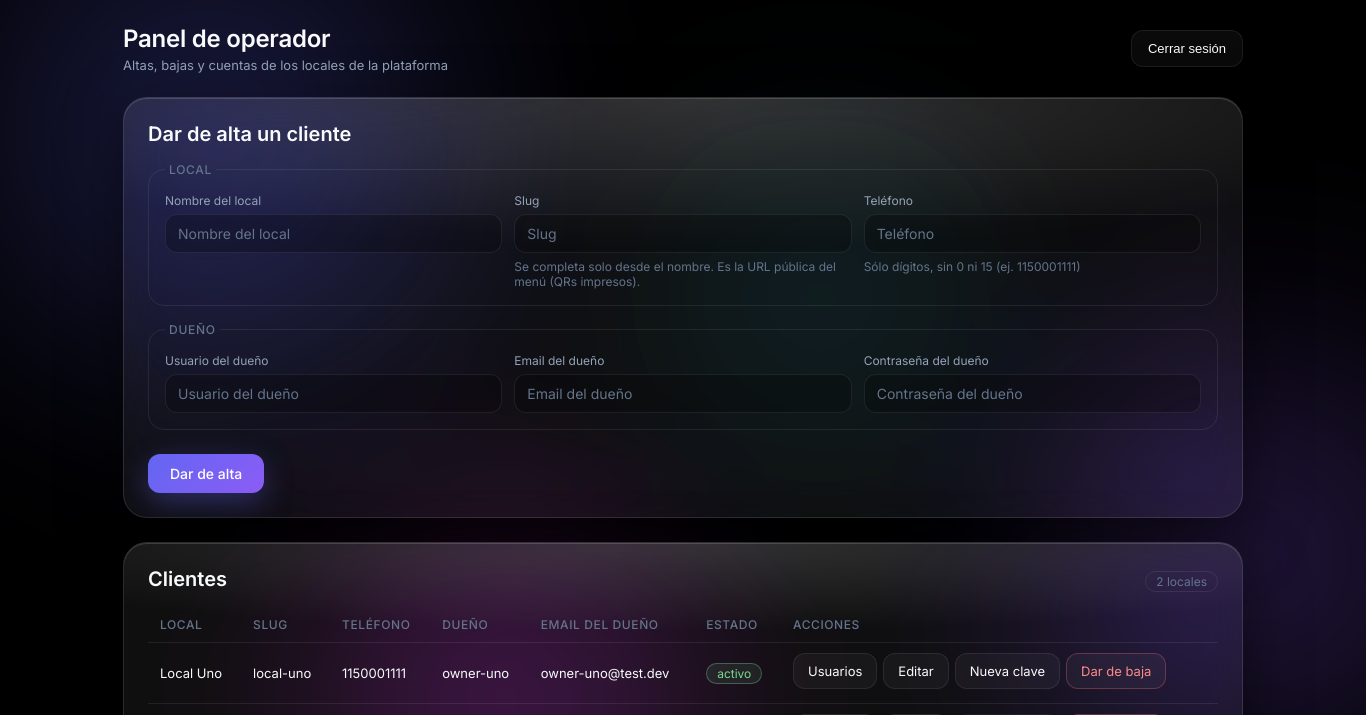
Test: alta form UX: slug automático y validación inline › valida inline y NO envía el POST cuando un campo es inválido
Step 1. Type "Local Valido" into the field with placeholder "Nombre del local" → coordinates (334, 234), box [165,214,502,253]
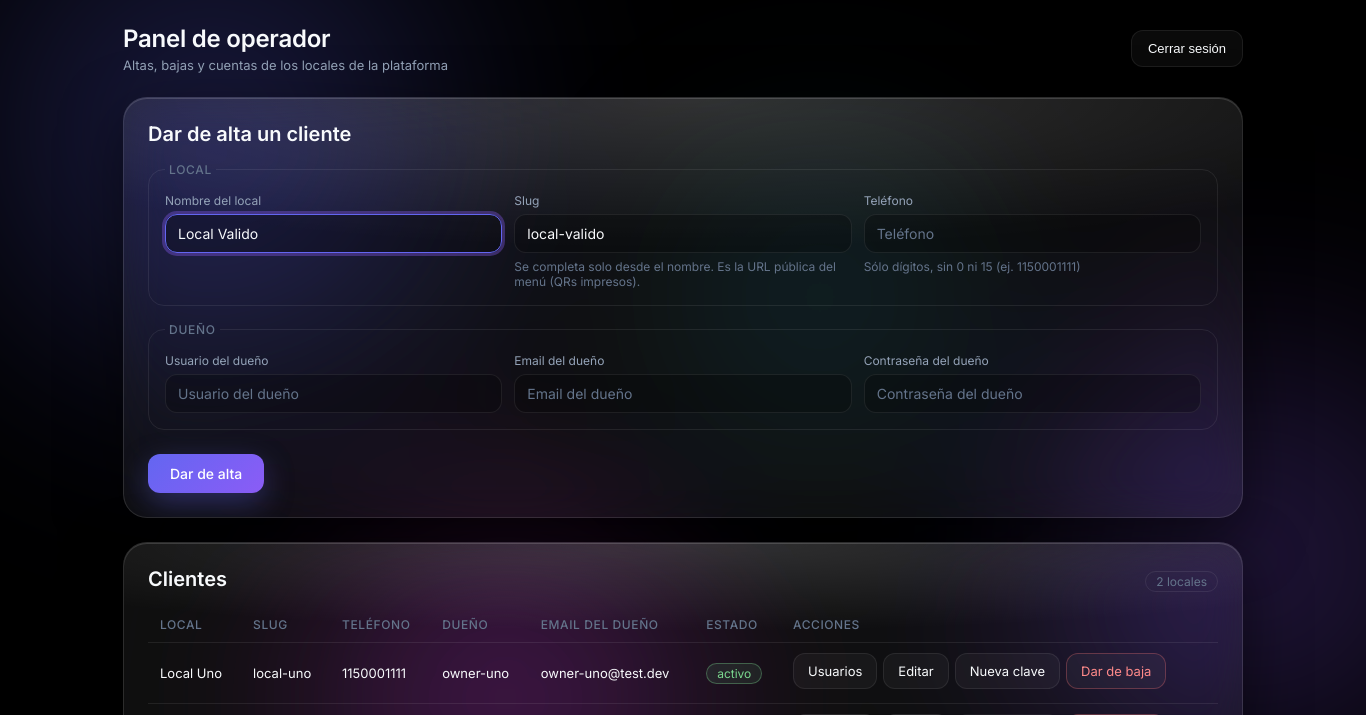
Step 2. Type "owner-v" into the field with placeholder "Usuario del dueño" → coordinates (334, 394), box [165,374,502,413]
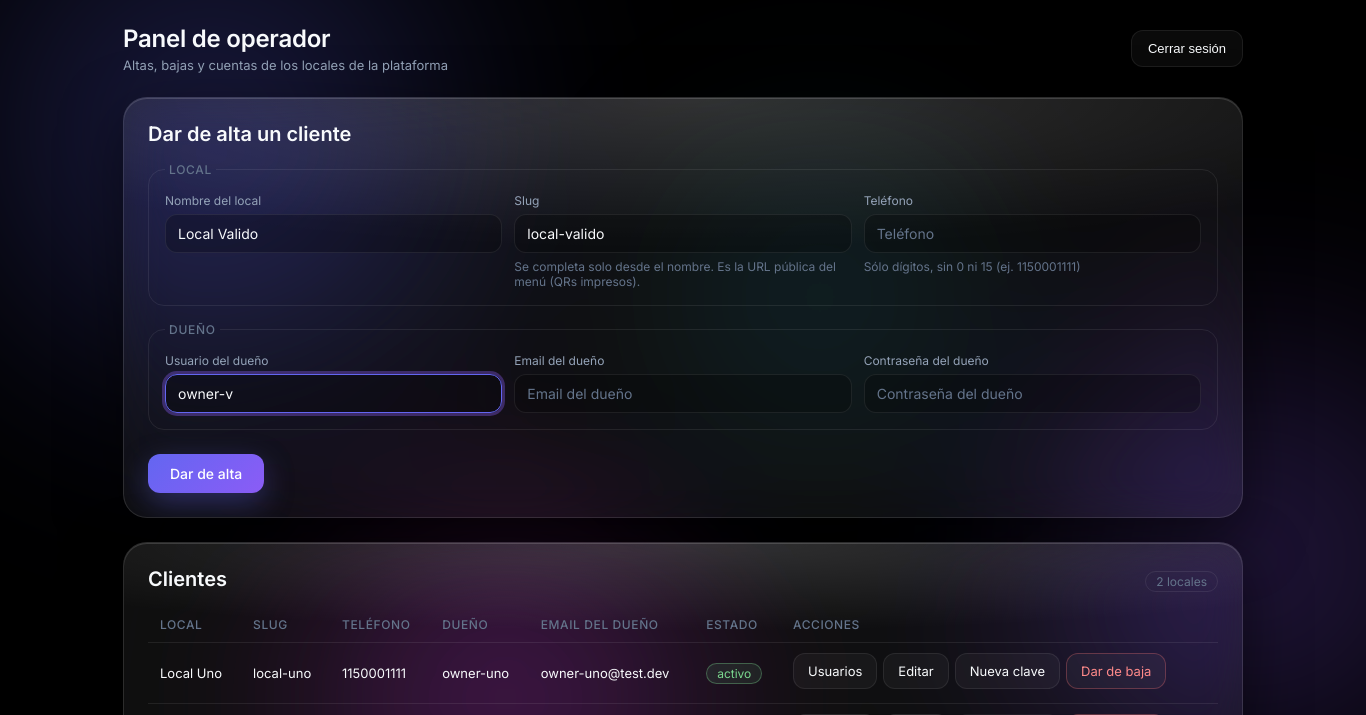
Step 3. Type "owner-v@test.dev" into the field with placeholder "Email del dueño" → coordinates (683, 394), box [514,374,852,413]
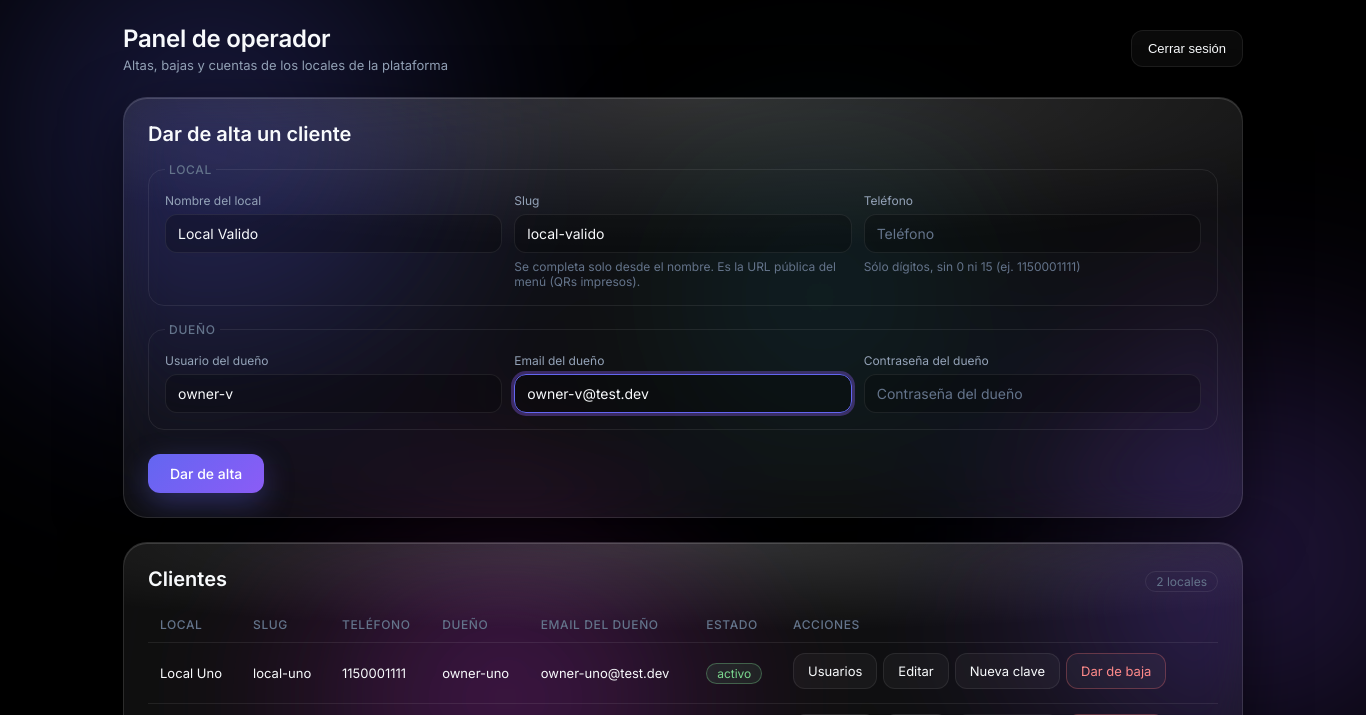
Contraseña corta: el formulario debe frenarla ANTES de la red.
Step 4. Type "corta" into the password field with placeholder "Contraseña del dueño" → coordinates (1032, 394), box [864,374,1201,413]
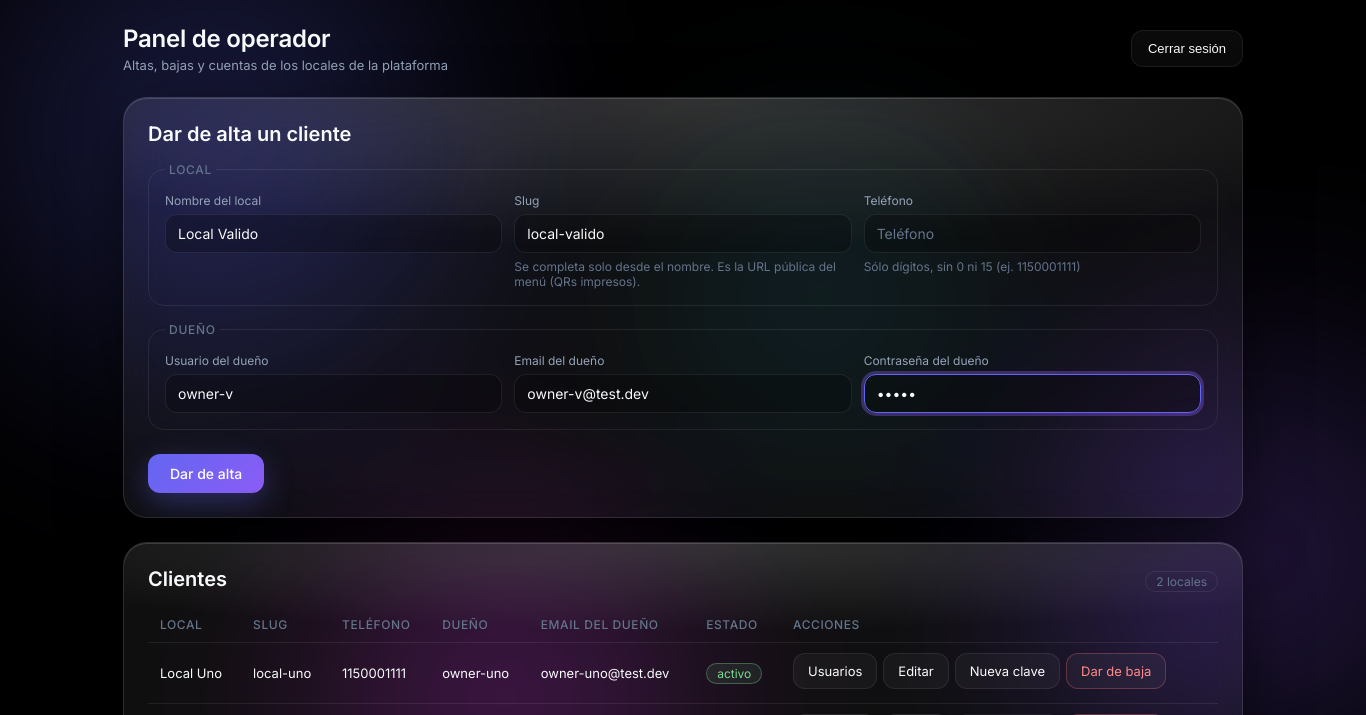
Step 5. Click the button "Dar de alta" → coordinates (206, 474), box [148,454,264,493]
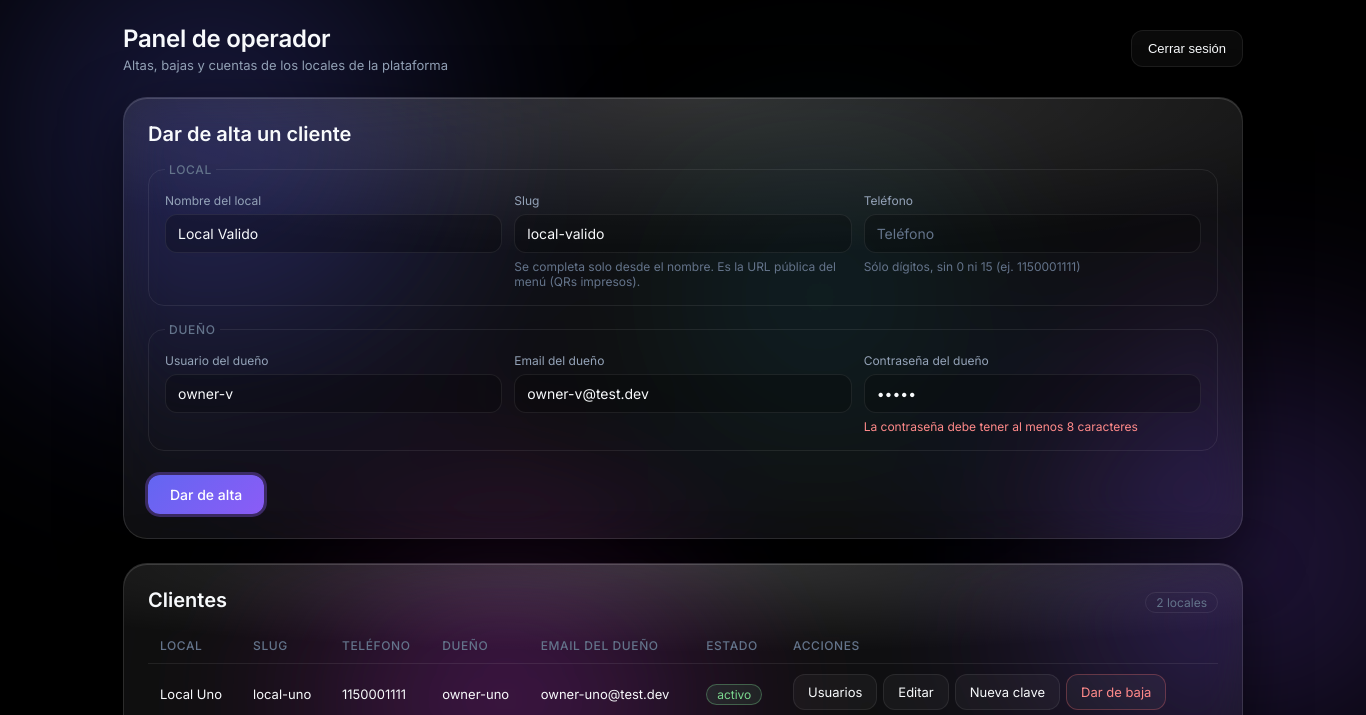
Expected: the text "La contraseña debe tener al menos 8 caracteres" is shown, [864,419,1138,434]
